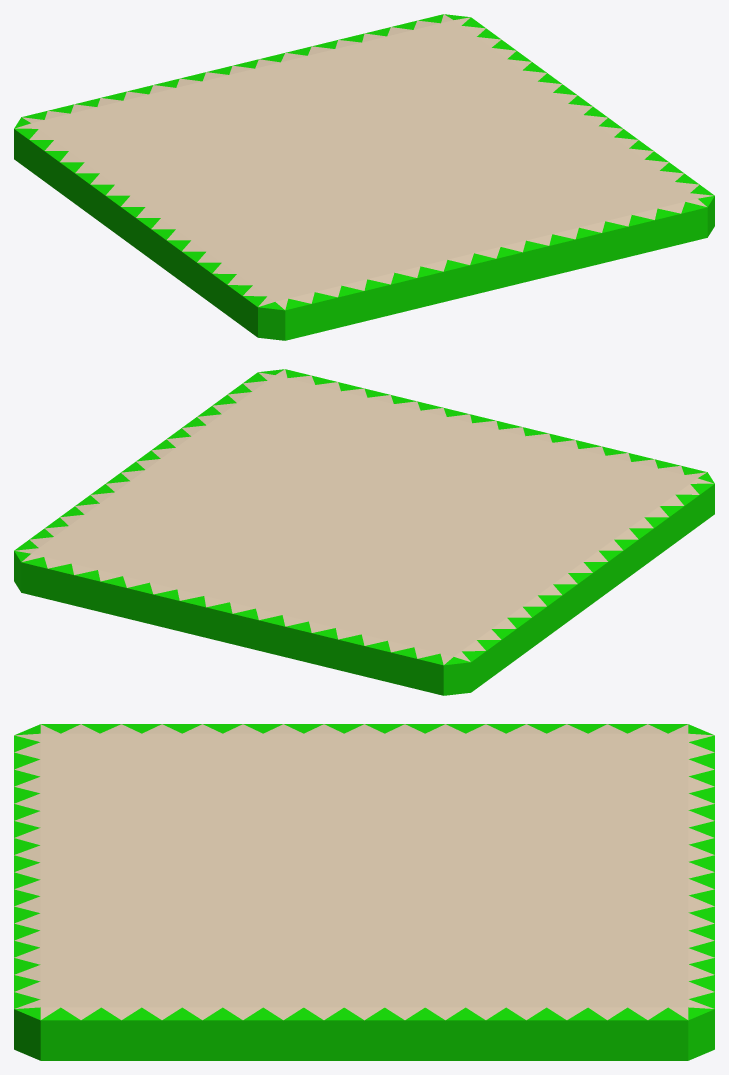
Rendered from terreno2.fbx.
The picture shows the model from 3 angles, top to bottom: view 1: azimuth 30°, elevation 25°; view 2: azimuth 150°, elevation 25°; view 3: azimuth 270°, elevation 25°; orthographic projection. The views are drawn at different scales.
Parts seen in each view (by area): view 1: Cube; view 2: Cube; view 3: Cube.
Boxes of the visible parts, <box> form: Cube: <box>14,14,714,340</box>; Cube: <box>14,369,714,695</box>; Cube: <box>14,724,714,1060</box>.
Size of the model in its own units: 2900 by 200 by 2900.
